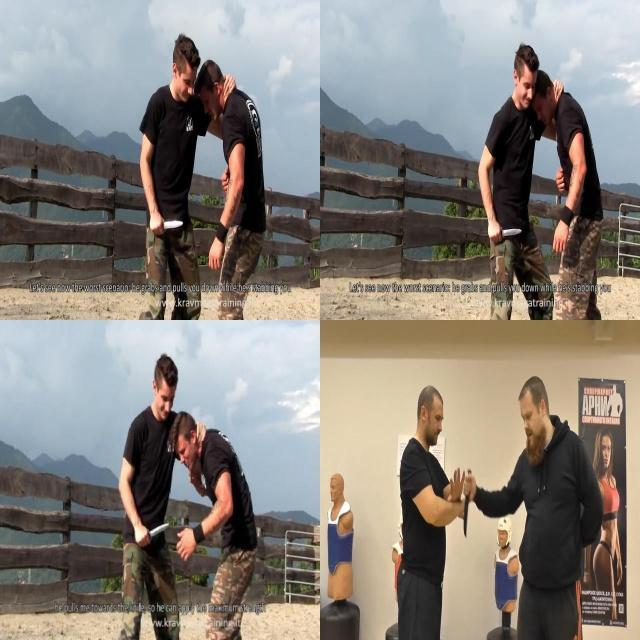-: (133, 517, 171, 548), (486, 222, 524, 248), (147, 213, 184, 238), (460, 465, 472, 540)
